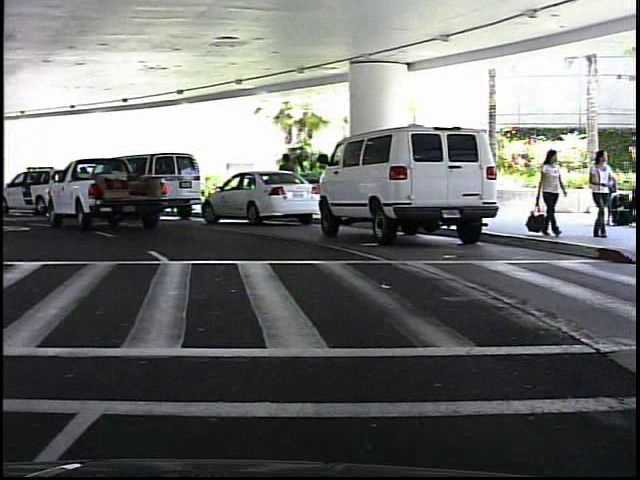person: (535, 145, 565, 237), (586, 147, 614, 240), (597, 155, 619, 229), (278, 149, 303, 213)
